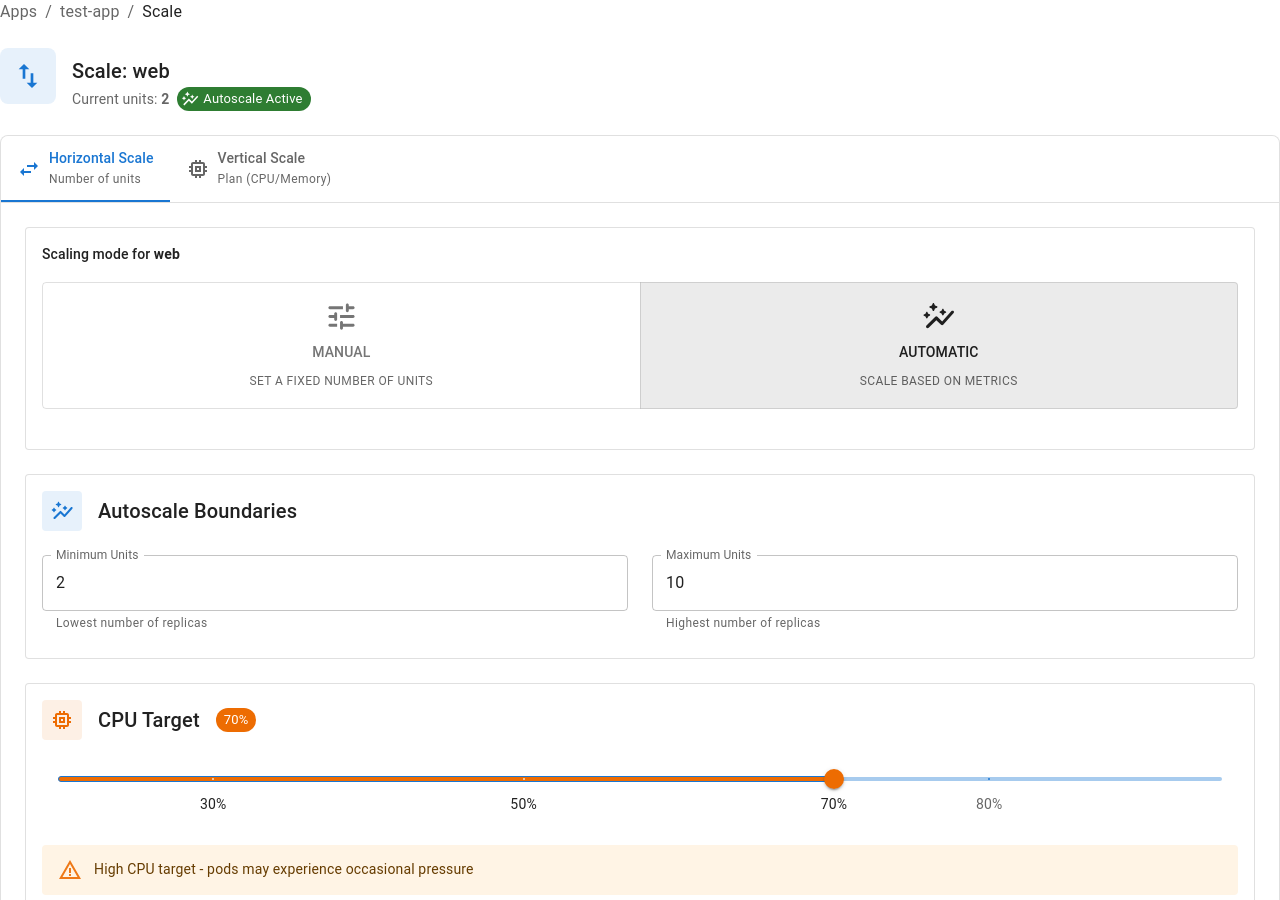
Scenario: AppScaleView › shows warning when switching from autoscale to manual
Click the button "Manual Set a fixed number of units": {"x": 341, "y": 345} [42,282,640,409]
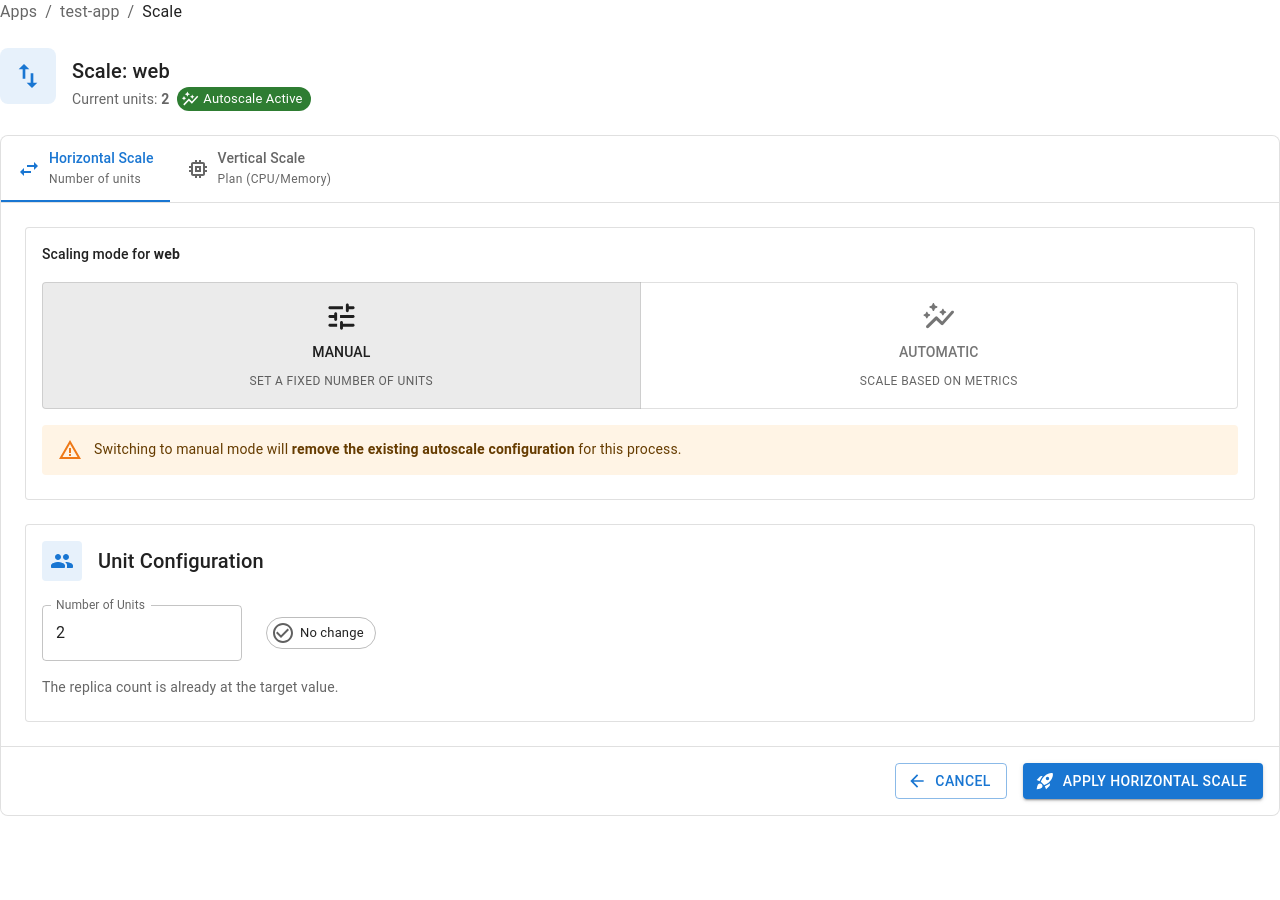
expect the text "remove the existing autoscale configuration" is shown: met, box [292,441,575,457]
